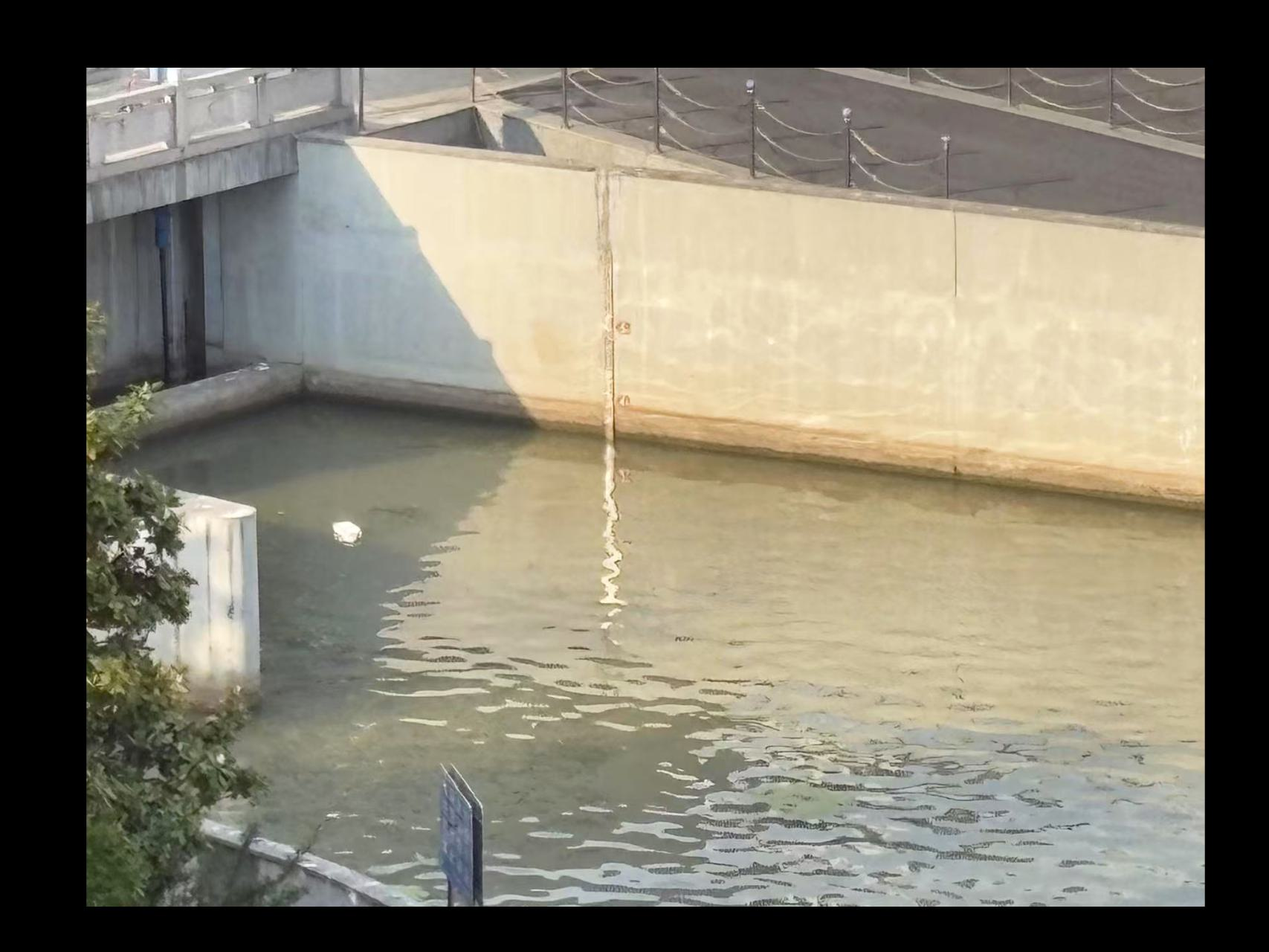Plastic wastes: (330, 517, 364, 547)
